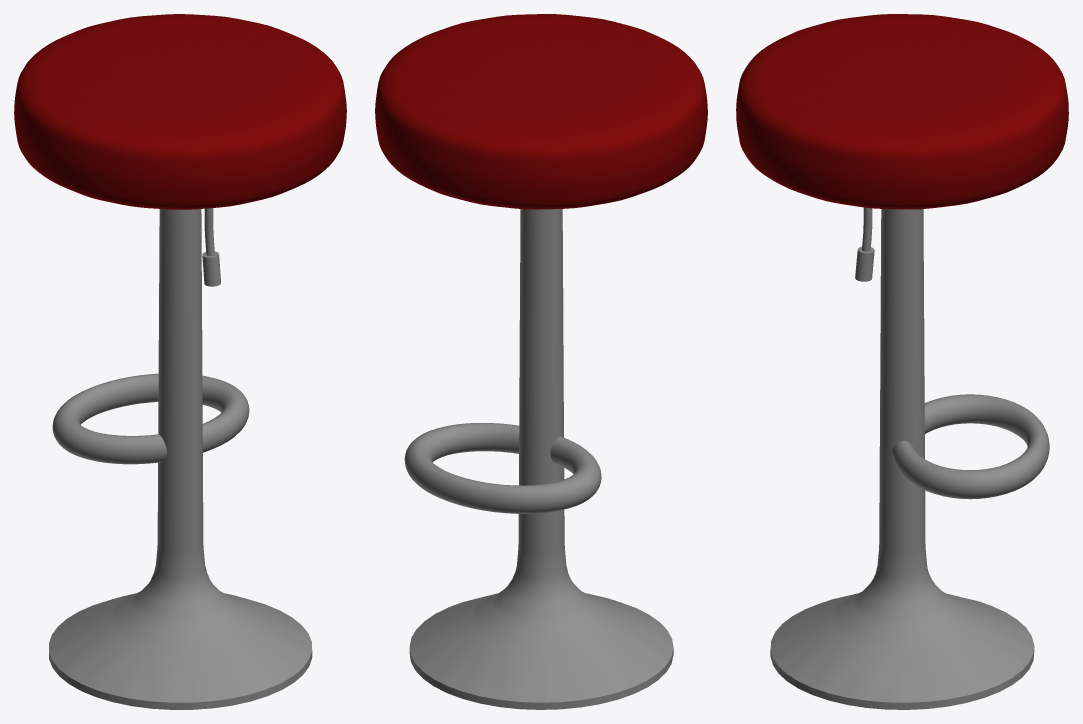
Rendered from Tabouret4_5.fbx.
3 views of the same model, side by side, from view 1: azimuth 30°, elevation 25°; view 2: azimuth 150°, elevation 25°; view 3: azimuth 270°, elevation 25° (orthographic).
Visible parts, largest first — view 1: pCylinder231, pCylinder232, pTorus1, pCylinder233; view 2: pCylinder231, pCylinder232, pTorus1; view 3: pCylinder231, pCylinder232, pTorus1, pCylinder233.
Part boxes in pixels (bbox=[...]): pCylinder231: bbox=[14, 14, 346, 209]; pCylinder232: bbox=[49, 209, 312, 709]; pTorus1: bbox=[52, 373, 249, 464]; pCylinder233: bbox=[202, 208, 220, 286]; pCylinder231: bbox=[375, 14, 707, 209]; pCylinder232: bbox=[409, 209, 673, 709]; pTorus1: bbox=[404, 423, 601, 513]; pCylinder231: bbox=[736, 14, 1068, 209]; pCylinder232: bbox=[770, 209, 1034, 709]; pTorus1: bbox=[892, 394, 1049, 499]; pCylinder233: bbox=[855, 207, 874, 281].
Bounding box in the file's own units: 32.76 × 63.14 × 32.76.
